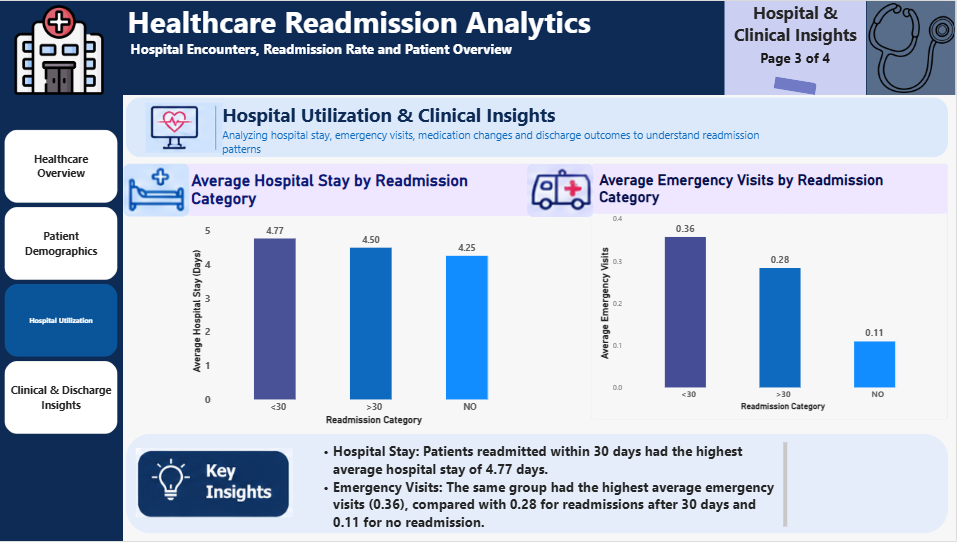

The page's visual inventory and layout, read from the dashboard file:
{"tool":"powerbi","page":{"name":"Hospital Utilization","canvas":[1920,1080],"ordinal":2},"visuals":[{"type":"textbox","box":[245.2,0,1673.8,188.1],"z":0},{"type":"image","box":[0,0,214.3,1081],"z":1000},{"type":"image","box":[19,0,259.5,1081],"z":2000},{"type":"image","box":[35.7,7.1,178.6,181],"z":3000},{"type":"image","box":[1739,0,180.5,187.8],"z":4000},{"type":"shape","title":"Hospital & Clinical Insights","box":[1456.1,0,282.9,187.8],"z":5000},{"type":"columnChart","title":"Average Hospital Stay by Readmission Category","fields":{"Category":["healthcare_readmission_analytics readmissions.readmitted"],"Y":["Avg(healthcare_readmission_analytics readmissions.time_in_hospital)"]},"box":[371.4,326.2,714.3,538.1],"z":6000},{"type":"shape","title":"Patient Demographics","box":[258.1,193.6,1644.8,120.3],"z":7000},{"type":"textbox","box":[450,252,1078,118],"z":8000},{"type":"image","box":[296.5,191.9,153.5,122.1],"z":9000},{"type":"clusteredColumnChart","title":"Average Emergency Visits by Readmission Category","fields":{"Category":["healthcare_readmission_analytics readmissions.readmitted"],"Y":["Avg(healthcare_readmission_analytics readmissions.number_emergency)"]},"box":[1188.1,326.2,714.3,511.9],"z":10000},{"type":"image","box":[252.6,324.7,132.3,106.2],"z":11000},{"type":"image","box":[1059.5,326.2,133.3,107.1],"z":12000},{"type":"shape","title":"Patient Demographics","box":[257.1,864.3,1645.2,200],"z":12001},{"type":"image","box":[278.6,850,314.3,226.2],"z":12002},{"type":"textbox","box":[633.3,883.3,947.6,181],"z":12003},{"type":"pageNavigator","box":[14,258,226,610],"z":12004}]}

Visuals, with their boxes in screenshot pixels (x1, y1, x2, y2), scaled from the page's 1920x1080 canvas onto the 957x542 screenshot:
textbox: l=122, t=0, r=956, b=94
image: l=0, t=0, r=107, b=541
image: l=9, t=0, r=139, b=541
image: l=18, t=4, r=107, b=94
image: l=867, t=0, r=956, b=94
"Hospital & Clinical Insights" shape: l=726, t=0, r=867, b=94
"Average Hospital Stay by Readmission Category" columnChart: l=185, t=164, r=541, b=434
"Patient Demographics" shape: l=129, t=97, r=948, b=158
textbox: l=224, t=126, r=762, b=186
image: l=148, t=96, r=224, b=158
"Average Emergency Visits by Readmission Category" clusteredColumnChart: l=592, t=164, r=948, b=421
image: l=126, t=163, r=192, b=216
image: l=528, t=164, r=595, b=217
"Patient Demographics" shape: l=128, t=434, r=948, b=534
image: l=139, t=427, r=296, b=540
textbox: l=316, t=443, r=788, b=534
pageNavigator: l=7, t=129, r=120, b=436
